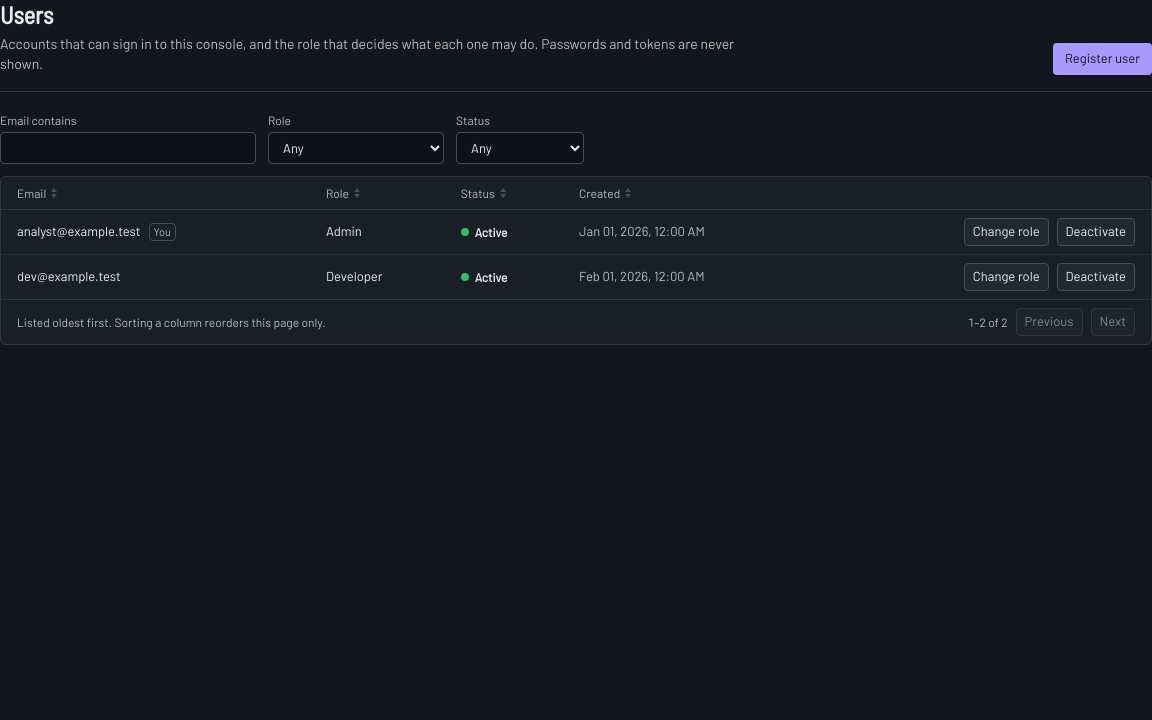
Users › keeps the dialog open and explains the server's last-admin protection
Click the button with aria-label "Deactivate analyst@example.test" at (1096, 232), box top-left (1057, 218), bottom-right (1135, 246)
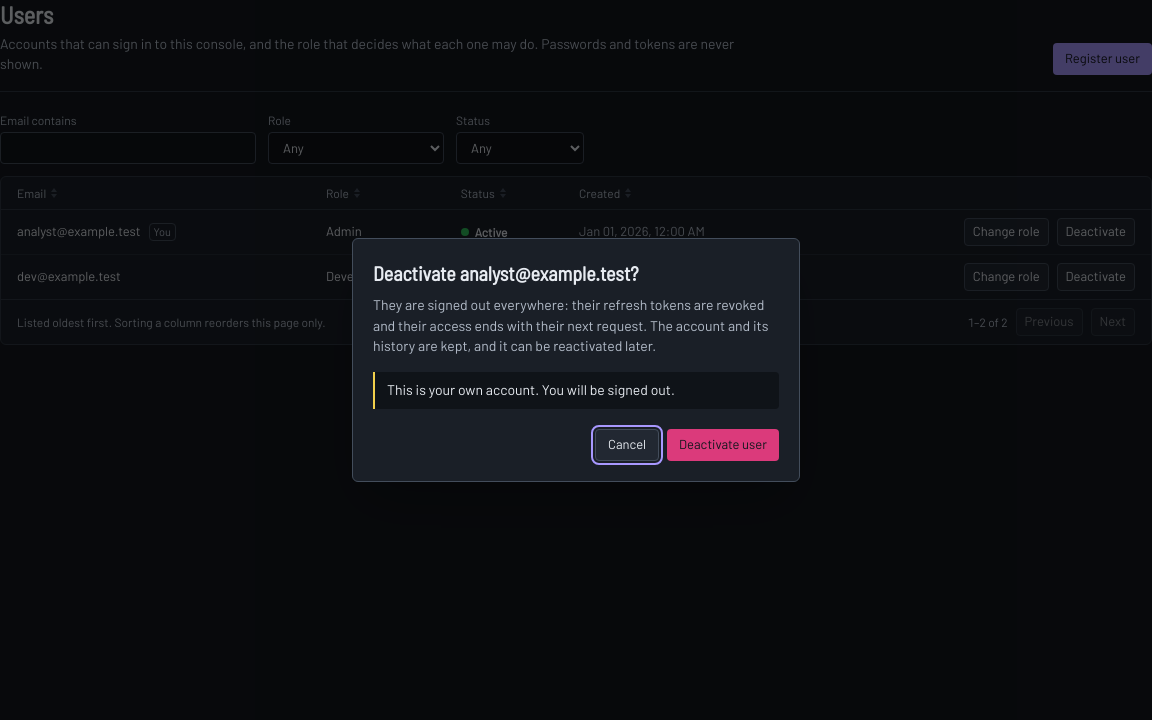
Result: the text "This is your own account. You will be signed out." is shown at top-left (373, 372), bottom-right (779, 409)
Click the button "Deactivate user" at (723, 445), box top-left (667, 429), bottom-right (779, 461)
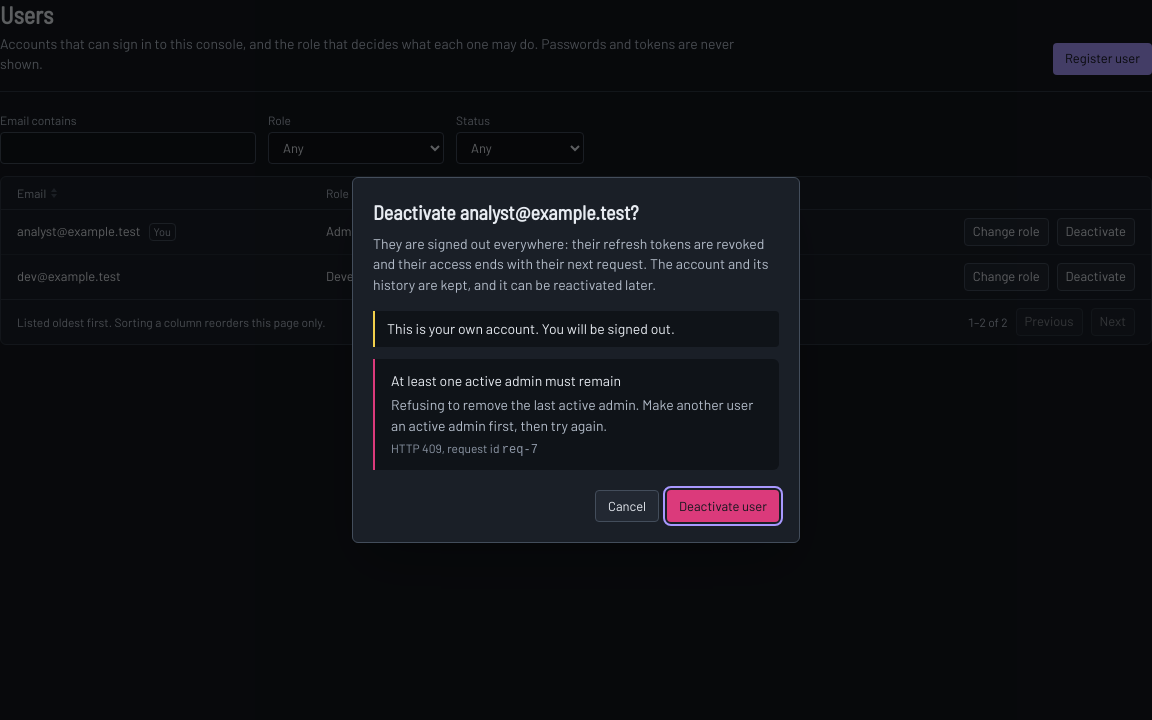
Result: the message shows "At least one active admin must remain" at top-left (391, 372), bottom-right (621, 389)
Result: the message shows "Refusing to remove the last active admin. Make another user an active admin first, then try again." at top-left (391, 396), bottom-right (753, 434)
Result: the message shows "req-7" at top-left (502, 443), bottom-right (538, 457)
